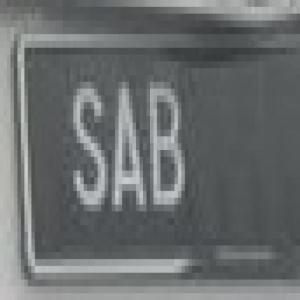Plate: (17, 35, 300, 279)
